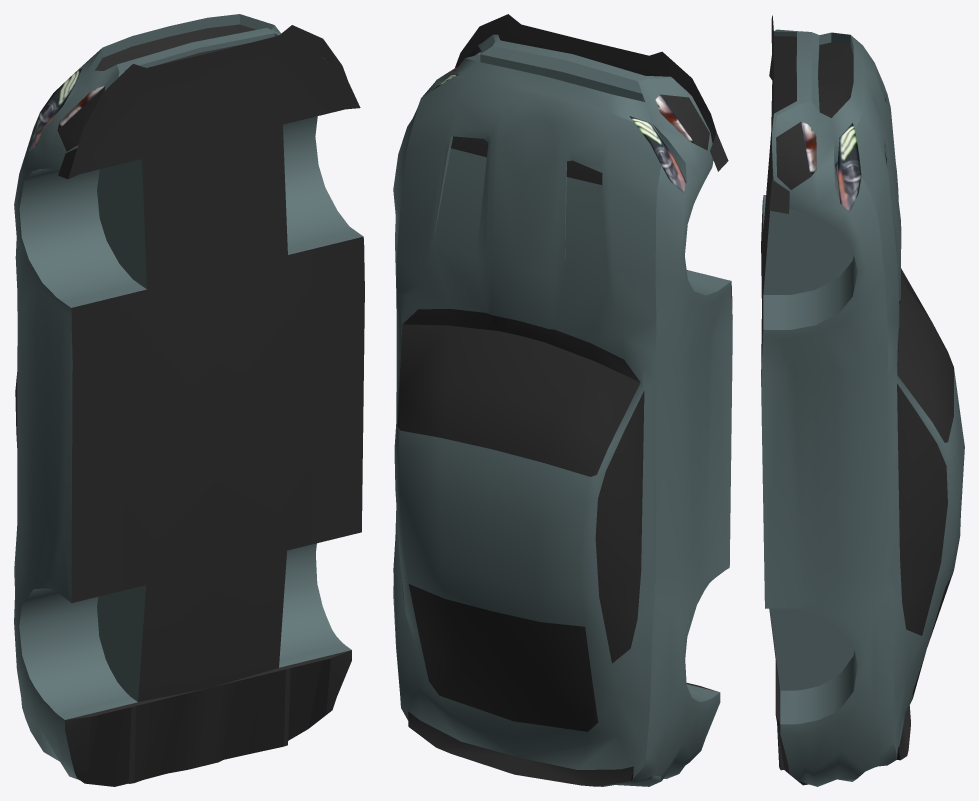
The model's file is MustanGt.glb.
The picture shows the model from 3 angles, left to right: view 1: azimuth 30°, elevation 25°; view 2: azimuth 150°, elevation 25°; view 3: azimuth 270°, elevation 25°; orthographic projection. The views are drawn at different scales.
Visible parts, largest first — view 1: Plane; view 2: Plane; view 3: Plane.
Boxes of the visible parts, <box> form: Plane: <box>14,14,364,786</box>; Plane: <box>393,14,732,786</box>; Plane: <box>761,15,964,786</box>.
Bounding box in the file's own units: 1.36 × 3.21 × 0.8552.
4 materials, 1 textured.
